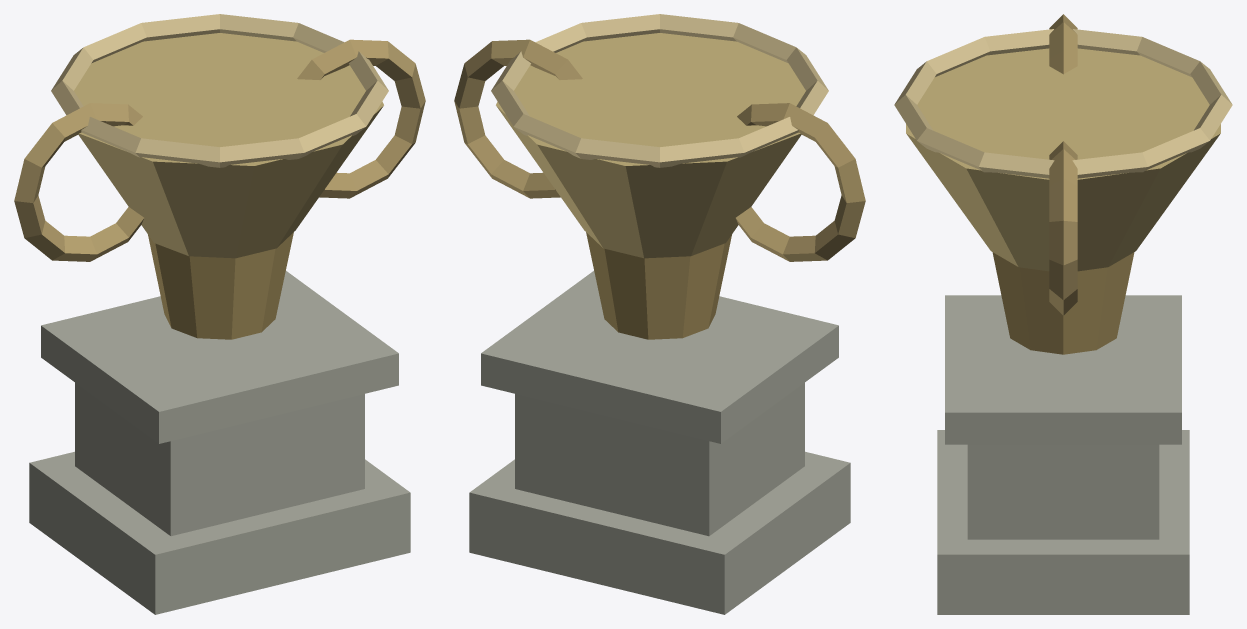
The model's file is map-exclusive-v3__champion_01.glb.
3 renders of one model, left to right at view 1: azimuth 30°, elevation 25°; view 2: azimuth 150°, elevation 25°; view 3: azimuth 270°, elevation 25°, orthographic.
Parts seen in each view (by area): view 1: champion_01; view 2: champion_01; view 3: champion_01.
Part boxes in pixels (left/top/right/bottom): champion_01: left=14, top=14, right=425, bottom=614; champion_01: left=454, top=14, right=865, bottom=614; champion_01: left=894, top=14, right=1232, bottom=614.
Bounding box in the file's own units: 1.87 × 2.03 × 1.33.
